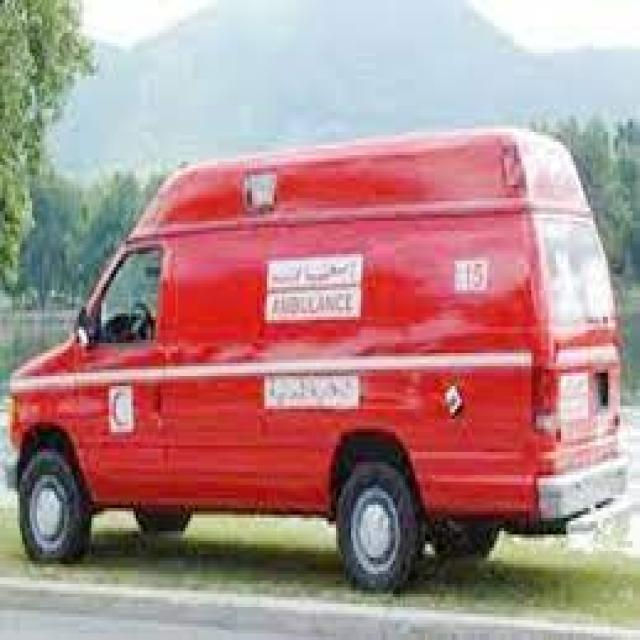ambulance: (14, 133, 617, 589)
